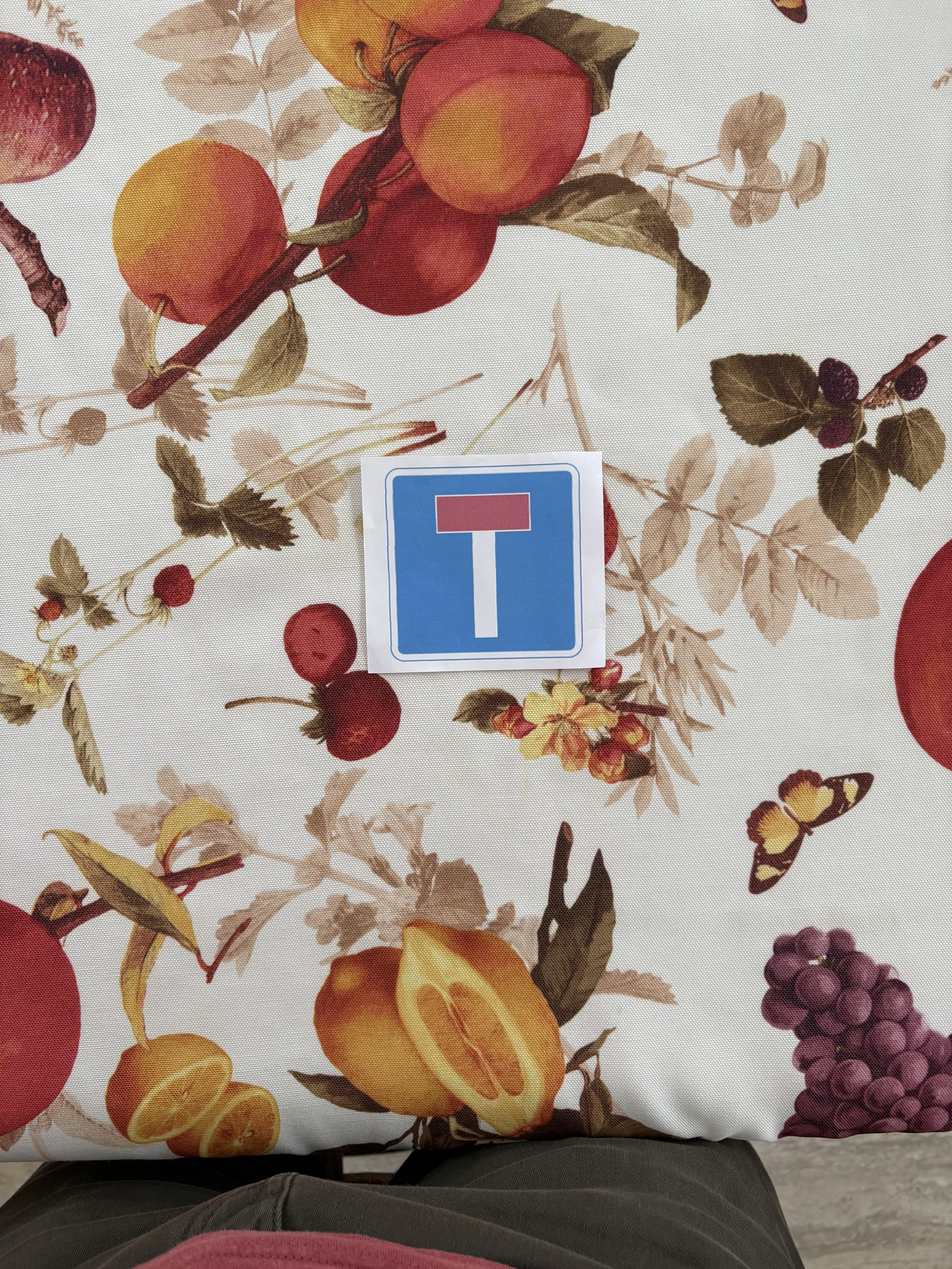Dead End: (360, 453, 607, 667)
